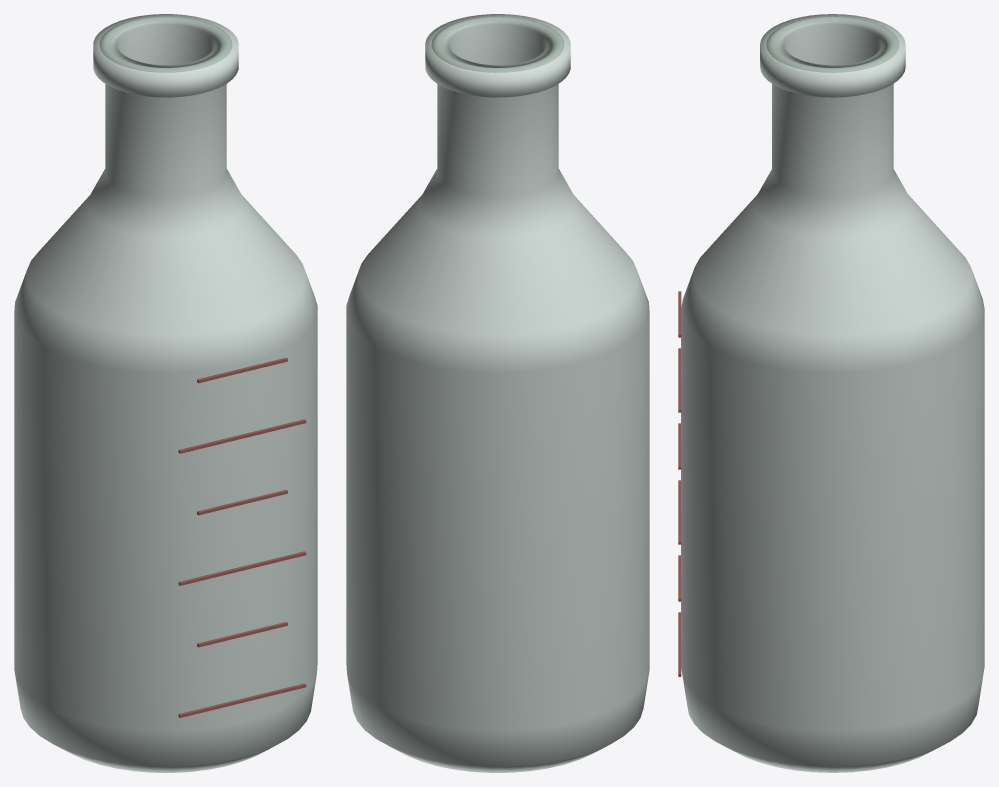
Rendered from props_p6__p6_flask.glb.
3 renders of one model, left to right at view 1: azimuth 30°, elevation 25°; view 2: azimuth 150°, elevation 25°; view 3: azimuth 270°, elevation 25°, orthographic.
Parts seen in each view (by area): view 1: hollow_glass, bottle_rim, etched_measure_4, etched_measure_2, etched_measure_0; view 2: hollow_glass, bottle_rim; view 3: hollow_glass, bottle_rim.
Part boxes in pixels (left/top/right/bottom): hollow_glass: left=14, top=14, right=317, bottom=772; bottle_rim: left=99, top=16, right=232, bottom=72; etched_measure_4: left=178, top=419, right=306, bottom=453; etched_measure_2: left=178, top=551, right=306, bottom=585; etched_measure_0: left=178, top=683, right=306, bottom=717; hollow_glass: left=346, top=14, right=649, bottom=772; bottle_rim: left=431, top=16, right=564, bottom=72; hollow_glass: left=681, top=14, right=984, bottom=772; bottle_rim: left=766, top=16, right=899, bottom=72.
Size of the model in its own units: 0.104 by 0.2567 by 0.1049.
